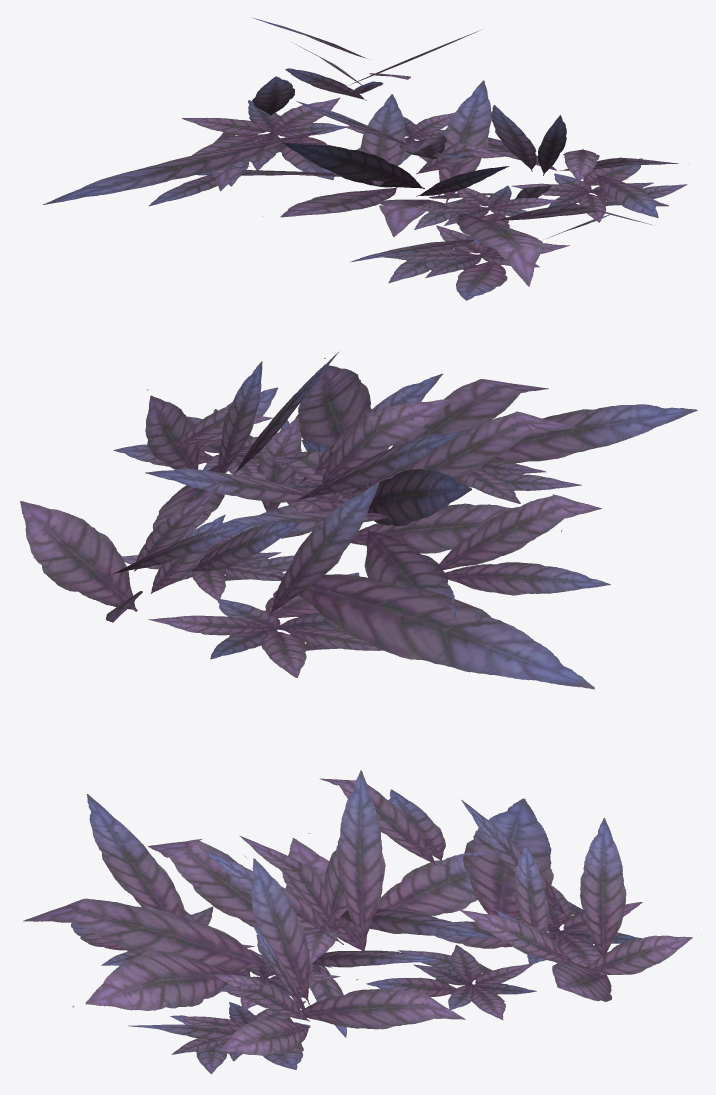
File: SM_Com_Gra_01AS.fbx
3 renders of one model, top to bottom at view 1: azimuth 30°, elevation 25°; view 2: azimuth 150°, elevation 25°; view 3: azimuth 270°, elevation 25°, orthographic. The views are drawn at different scales.
Visible parts, largest first — view 1: SM_Com_Gra_01AS.mo; view 2: SM_Com_Gra_01AS.mo; view 3: SM_Com_Gra_01AS.mo.
Part boxes in pixels (x1=…): SM_Com_Gra_01AS.mo: x1=43, y1=17, x2=689, y2=300; SM_Com_Gra_01AS.mo: x1=20, y1=352, x2=697, y2=689; SM_Com_Gra_01AS.mo: x1=23, y1=770, x2=701, y2=1073.
Bounding box in the file's own units: 1.8 × 0.5493 × 1.82.
